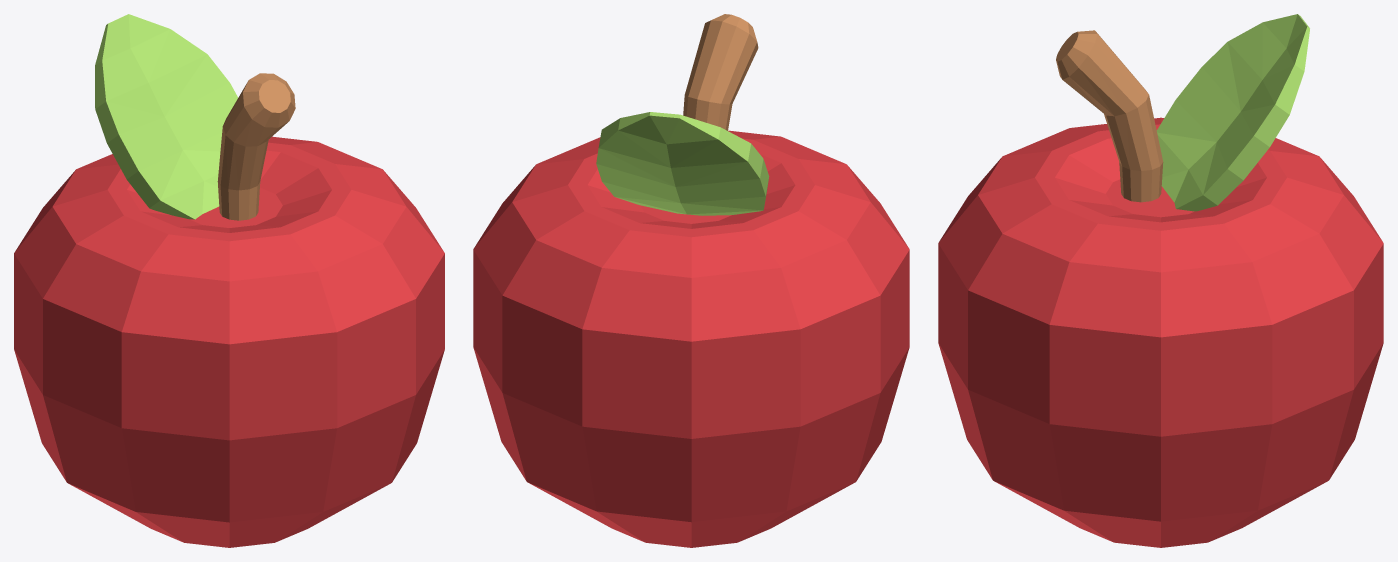
Rendered from Apple.dae.
The picture shows the model from 3 angles, left to right: view 1: azimuth 30°, elevation 25°; view 2: azimuth 150°, elevation 25°; view 3: azimuth 270°, elevation 25°; orthographic projection. The views are drawn at different scales.
Parts seen in each view (by area): view 1: Cylinder; view 2: Cylinder; view 3: Cylinder.
Boxes of the visible parts, x1=… form: Cylinder: x1=14, y1=14, x2=444, y2=547; Cylinder: x1=473, y1=14, x2=909, y2=547; Cylinder: x1=938, y1=14, x2=1383, y2=547.
Bounding box in the file's own units: 2 × 2 × 2.35.
